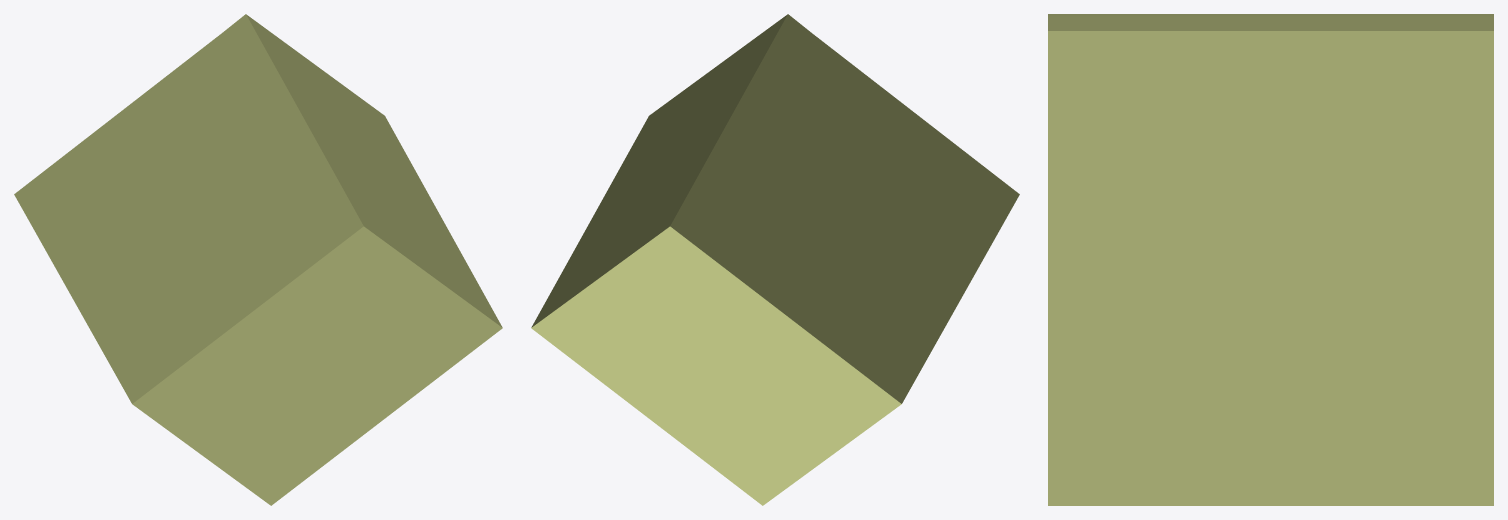
3 views of the same model, side by side, from view 1: azimuth 30°, elevation 25°; view 2: azimuth 150°, elevation 25°; view 3: azimuth 270°, elevation 25° (orthographic). The views are drawn at different scales.
Visible parts, largest first — view 1: 0_2_3_2_1_2_3_0_3_1_3; view 2: 0_2_3_2_1_2_3_0_3_1_3; view 3: 0_2_3_2_1_2_3_0_3_1_3.
Boxes of the visible parts, x1,y1,x2,y2 form: 0_2_3_2_1_2_3_0_3_1_3: [14, 14, 502, 505]; 0_2_3_2_1_2_3_0_3_1_3: [531, 14, 1019, 505]; 0_2_3_2_1_2_3_0_3_1_3: [1048, 14, 1493, 505].
Size of the model in its own units: 8.71 by 8.63 by 6.
